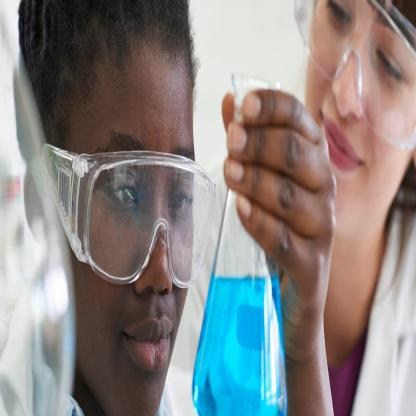oculos: (57, 149, 216, 289)
